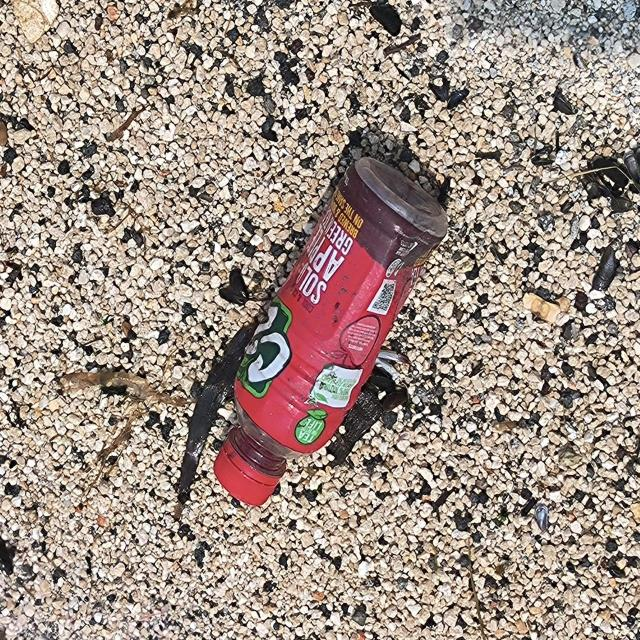plastic_waste: (214, 155, 451, 510)
